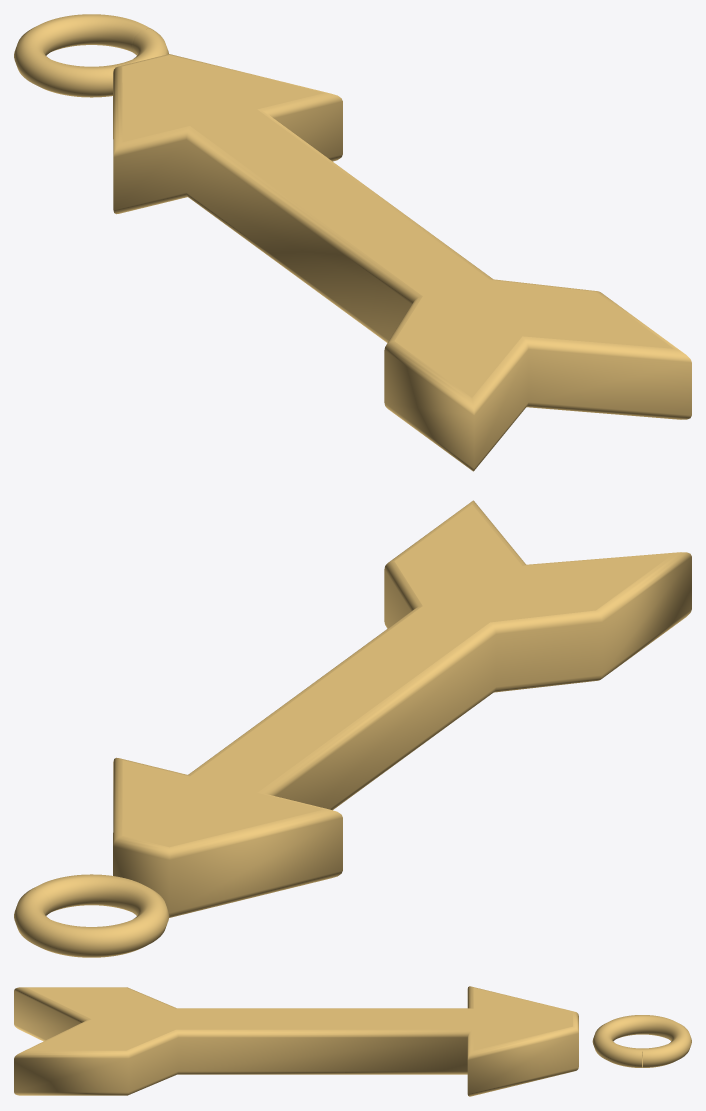
Rendered from pendant-17-gold.glb.
3 renders of one model, top to bottom at view 1: azimuth 30°, elevation 25°; view 2: azimuth 150°, elevation 25°; view 3: azimuth 270°, elevation 25°, orthographic. The views are drawn at different scales.
Visible parts, largest first — view 1: Cast relief.044, Wire detail.016; view 2: Cast relief.044, Wire detail.016; view 3: Cast relief.044, Wire detail.016.
Part boxes in pixels (x1,y1,x2,y2): Cast relief.044: (113, 54, 691, 471); Wire detail.016: (14, 14, 168, 97); Cast relief.044: (113, 500, 691, 917); Wire detail.016: (14, 874, 169, 957); Cast relief.044: (14, 986, 578, 1096); Wire detail.016: (592, 1015, 691, 1067).
Size of the model in its own units: 0.00341 by 0.00099 by 0.0137.
